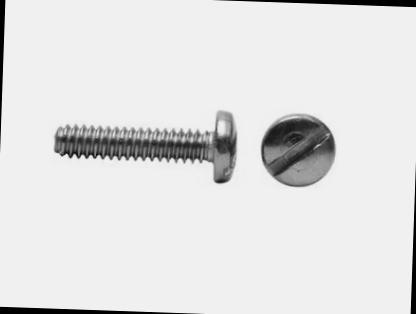slotted: (258, 111, 336, 188)
